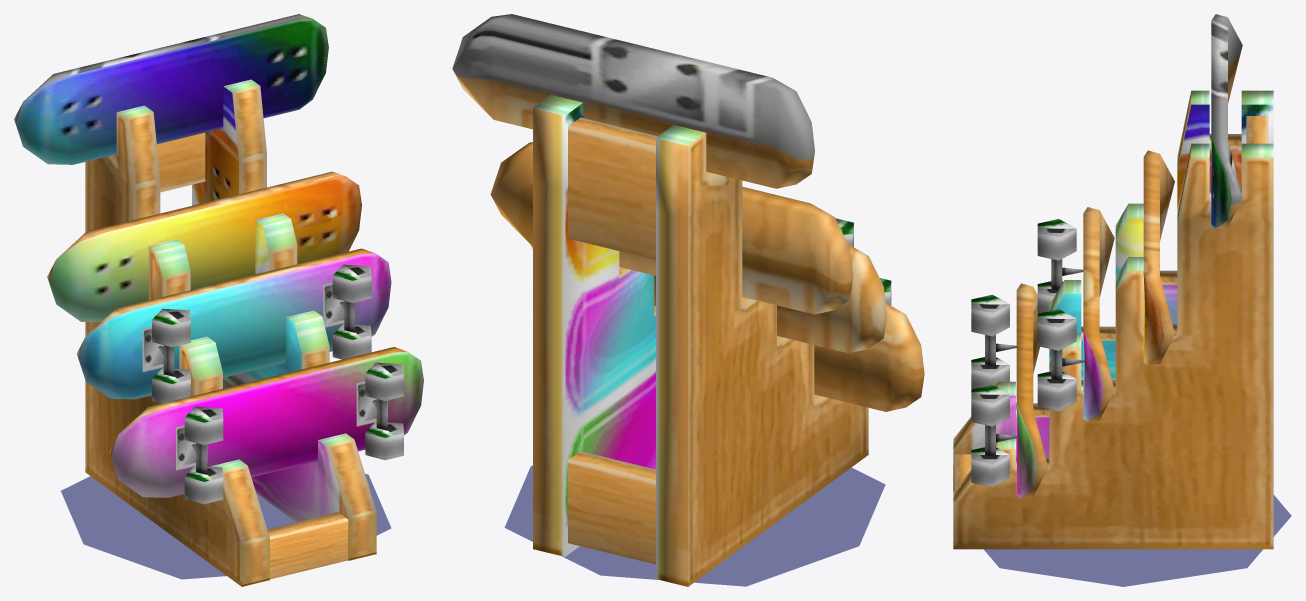
Rendered from rmk_oth_skateboard.fbx.
3 views of the same model, side by side, from view 1: azimuth 30°, elevation 25°; view 2: azimuth 150°, elevation 25°; view 3: azimuth 270°, elevation 25° (orthographic). The views are drawn at different scales.
Parts seen in each view (by area): view 1: rmk_oth_skateboard, sdw_circle; view 2: rmk_oth_skateboard, sdw_circle; view 3: rmk_oth_skateboard, sdw_circle.
Part boxes in pixels (left/top/right/bottom): rmk_oth_skateboard: left=14, top=14, right=423, bottom=586; sdw_circle: left=61, top=473, right=391, bottom=579; rmk_oth_skateboard: left=452, top=14, right=924, bottom=586; sdw_circle: left=504, top=465, right=885, bottom=586; rmk_oth_skateboard: left=953, top=14, right=1273, bottom=549; sdw_circle: left=984, top=495, right=1291, bottom=586.
Bounding box in the file's own units: 0.0988 × 0.1298 × 0.0905.
